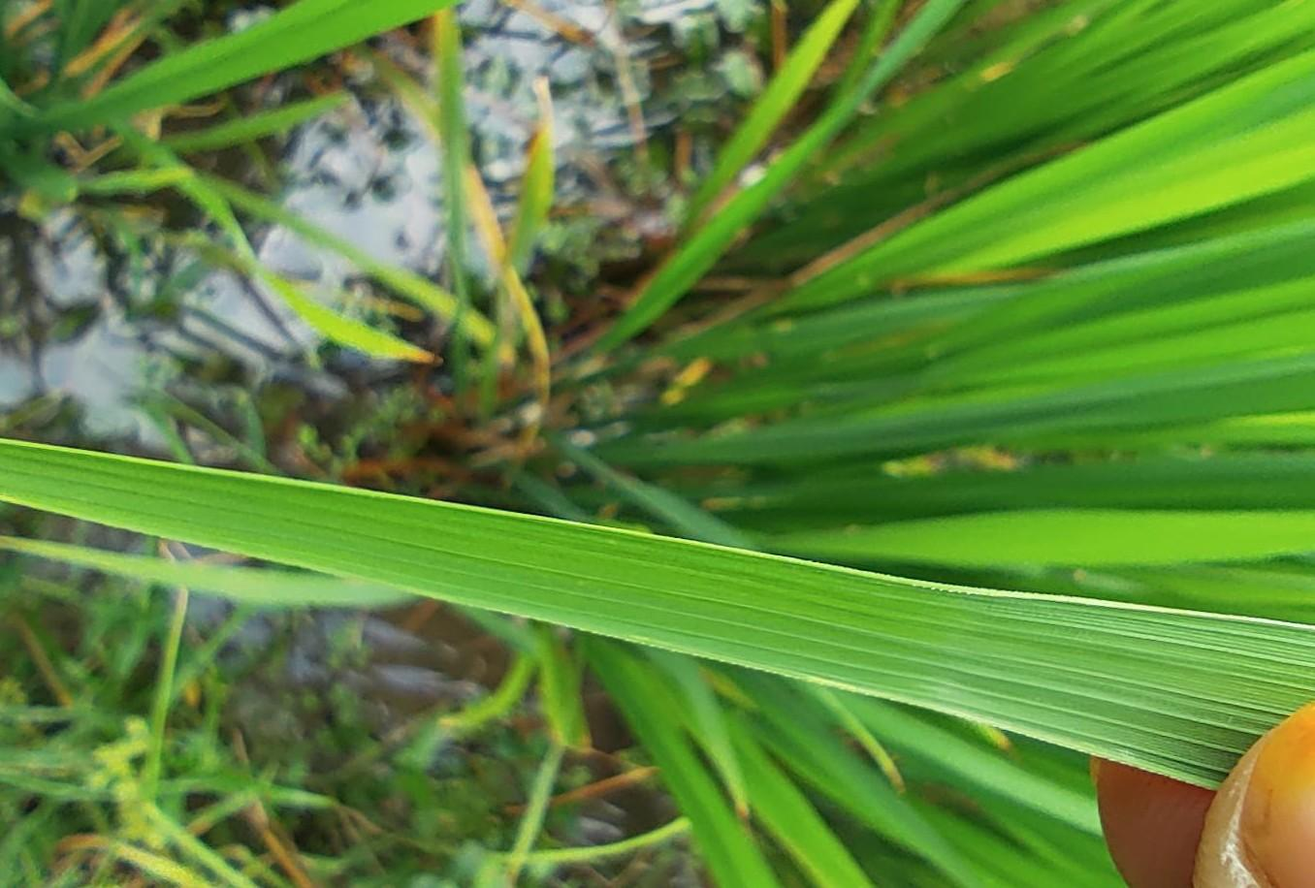Healthy: (2, 442, 1315, 787)
